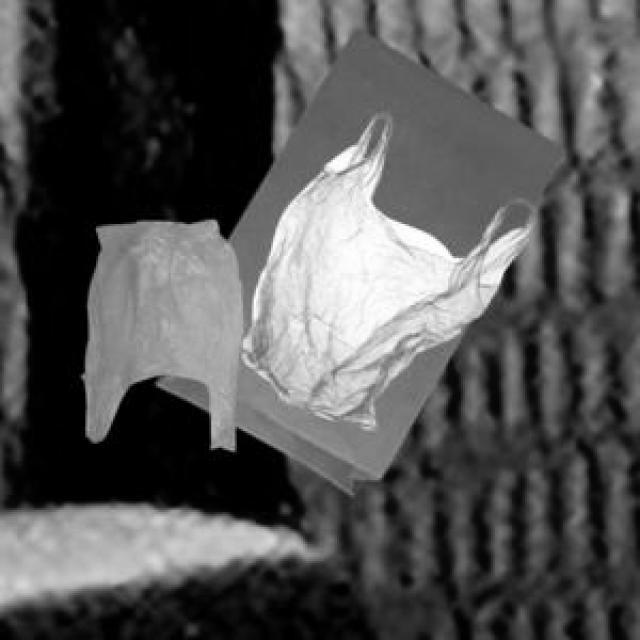paper: (152, 26, 561, 491)
